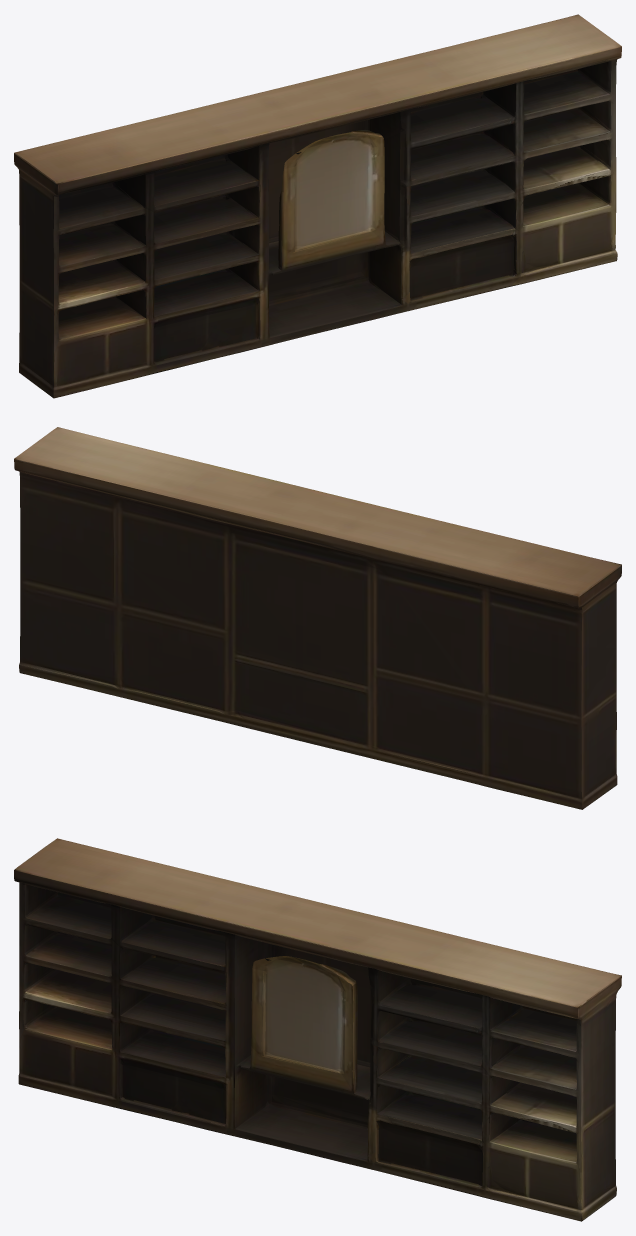
The model's file is shelf_wall_cubbies.glb.
The picture shows the model from 3 angles, top to bottom: view 1: azimuth 30°, elevation 25°; view 2: azimuth 150°, elevation 25°; view 3: azimuth 330°, elevation 25°; orthographic projection.
Parts seen in each view (by area): view 1: geometry_0; view 2: geometry_0; view 3: geometry_0.
Boxes of the visible parts, x1,y1,x2,y2 form: geometry_0: [14, 14, 621, 398]; geometry_0: [14, 427, 621, 809]; geometry_0: [14, 838, 621, 1221].
Size of the model in its own units: 1 by 0.369 by 0.1349.
1 material, 1 textured.
